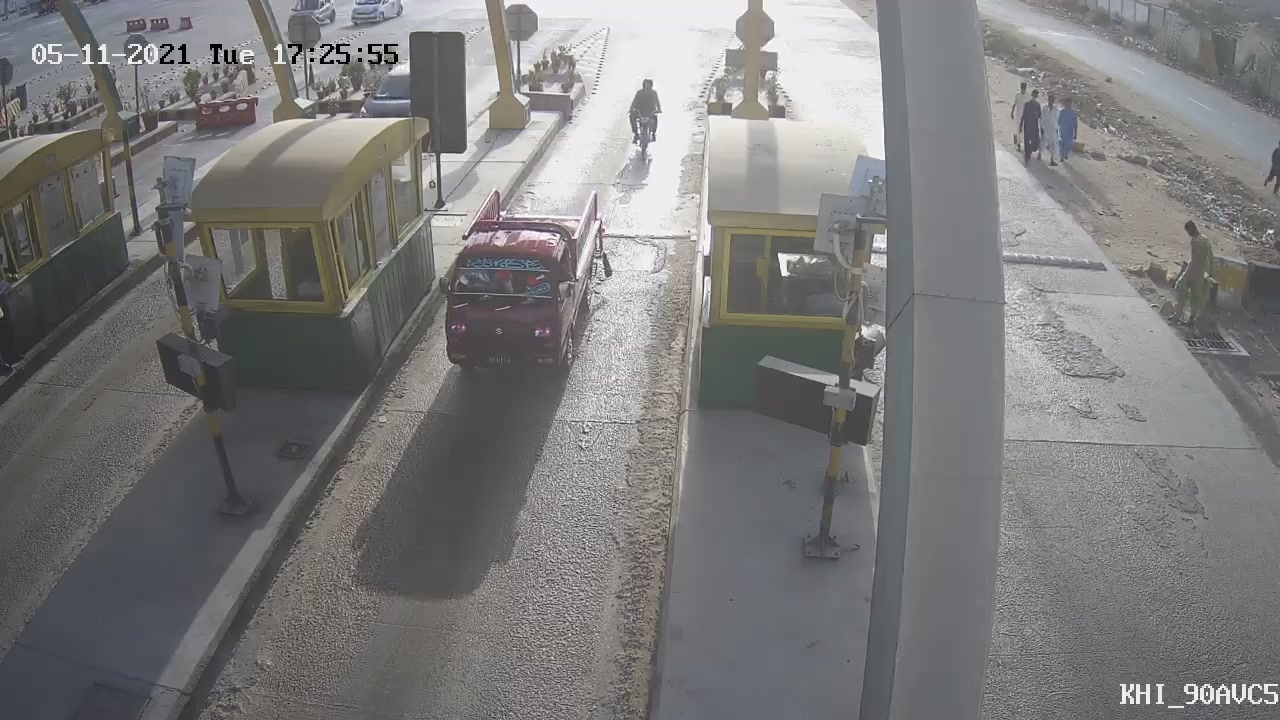F1: (420, 175, 629, 403)
